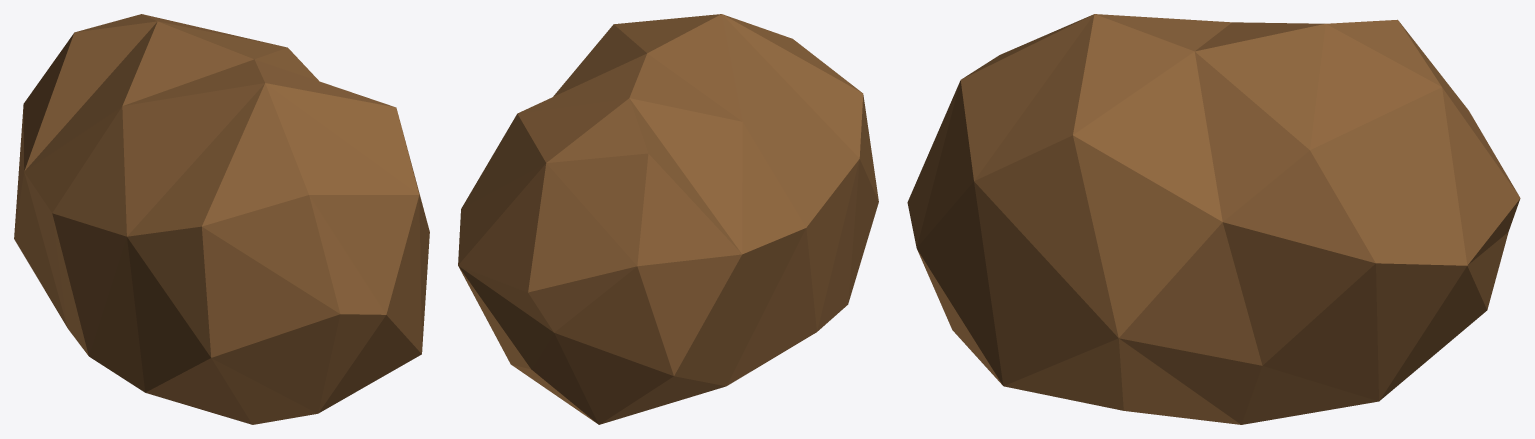
The model's file is roche1.fbx.
The picture shows the model from 3 angles, left to right: view 1: azimuth 30°, elevation 25°; view 2: azimuth 150°, elevation 25°; view 3: azimuth 270°, elevation 25°; orthographic projection. The views are drawn at different scales.
Visible parts, largest first — view 1: Roche; view 2: Roche; view 3: Roche.
Boxes of the visible parts, x1,y1,x2,y2 form: Roche: [14, 14, 429, 424]; Roche: [458, 14, 878, 424]; Roche: [907, 14, 1520, 424].
Size of the model in its own units: 421 by 423 by 604.
